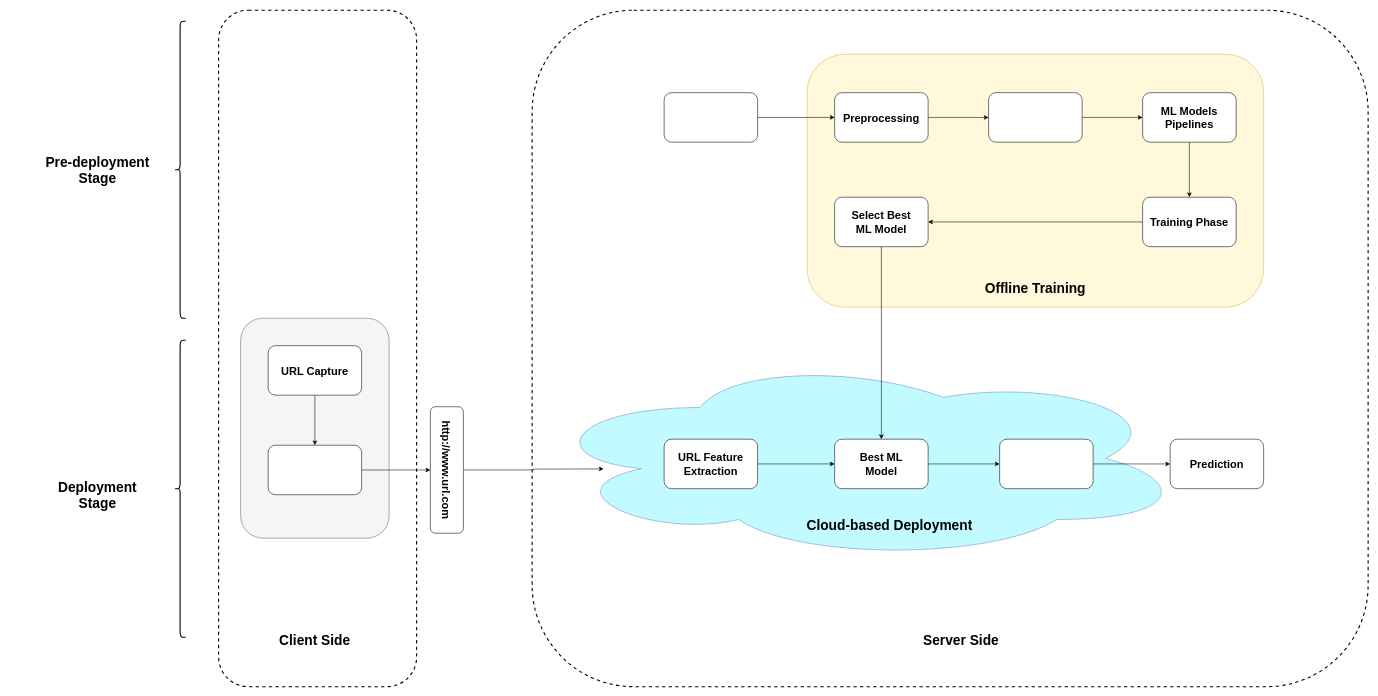
Some shapes in this 1378 by 696 pixel diagram are drawn without their labels. The shapes that lost their labels are listed below. From the top down, each one's box as (x1, y1, x2, y2) in pixels, then its label:
(664, 92, 758, 142): Phishing Dataset
(988, 92, 1082, 142): Feature Selection
(268, 445, 362, 495): Client API Call
(999, 439, 1093, 489): Model Inference
